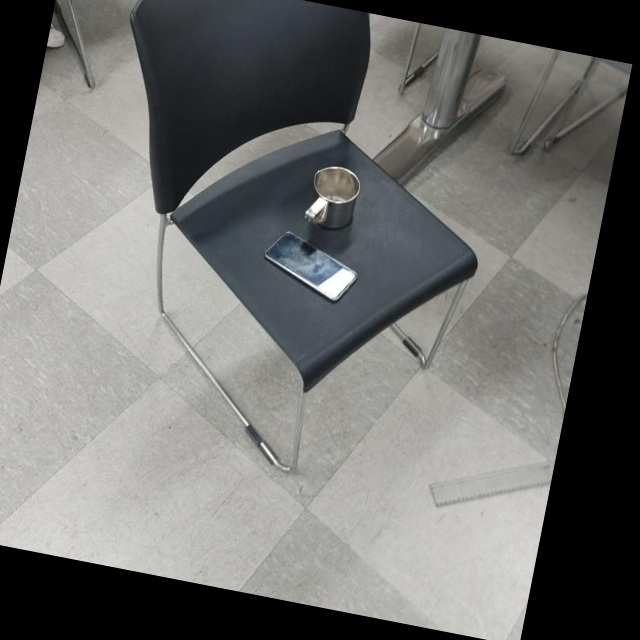cup: (300, 158, 365, 234)
phone: (257, 225, 365, 312)
